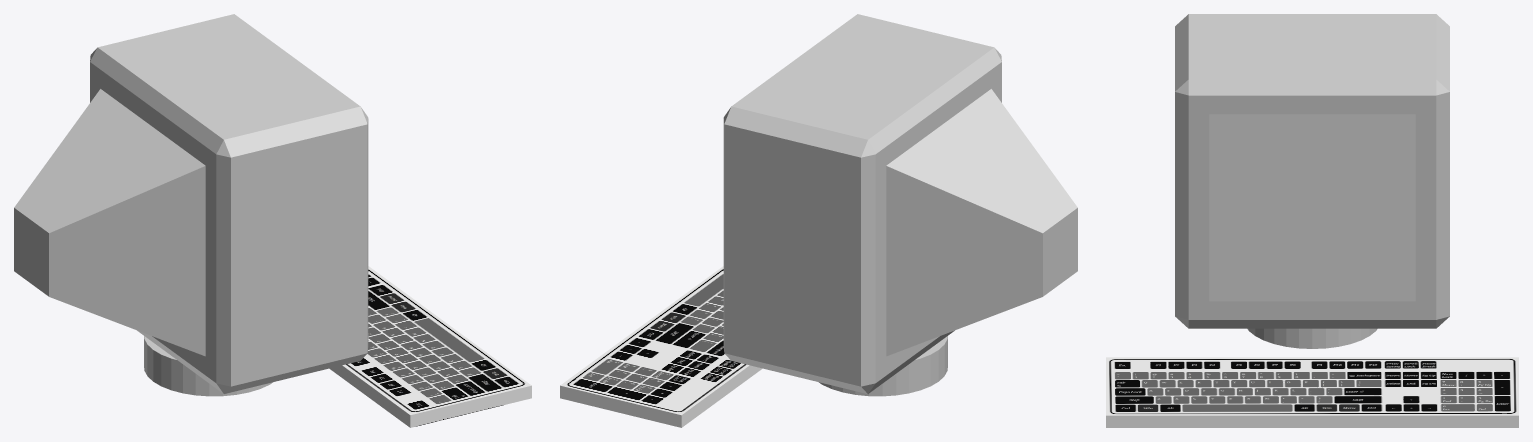
The model's file is computer.fbx.
The picture shows the model from 3 angles, left to right: view 1: azimuth 30°, elevation 25°; view 2: azimuth 150°, elevation 25°; view 3: azimuth 270°, elevation 25°; orthographic projection. The views are drawn at different scales.
Parts seen in each view (by area): view 1: computer, keyBoard; view 2: computer, keyBoard; view 3: computer, screen, keyBoard.
Boxes of the visible parts, x1,y1,x2,y2 form: computer: (14, 14, 368, 396); keyBoard: (329, 266, 531, 427); computer: (723, 14, 1077, 396); keyBoard: (560, 266, 762, 427); computer: (1175, 14, 1449, 348); screen: (1209, 114, 1415, 301); keyBoard: (1106, 357, 1518, 427).
Bounding box in the file's own units: 650 × 460 × 600.
Materials: 2 (1 with a texture image).
